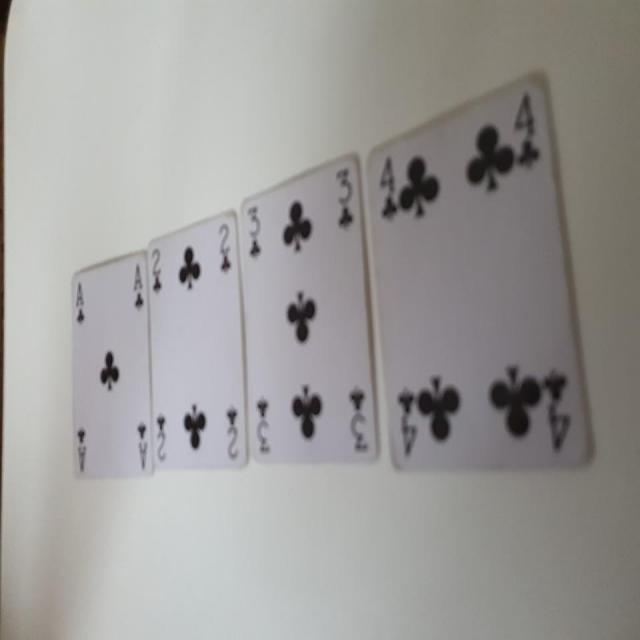2 Trefoils: (145, 210, 248, 469)
3 Trefoils: (238, 154, 381, 468)
4 Trefoils: (364, 77, 597, 474)
A Trefoils: (71, 251, 154, 481)
